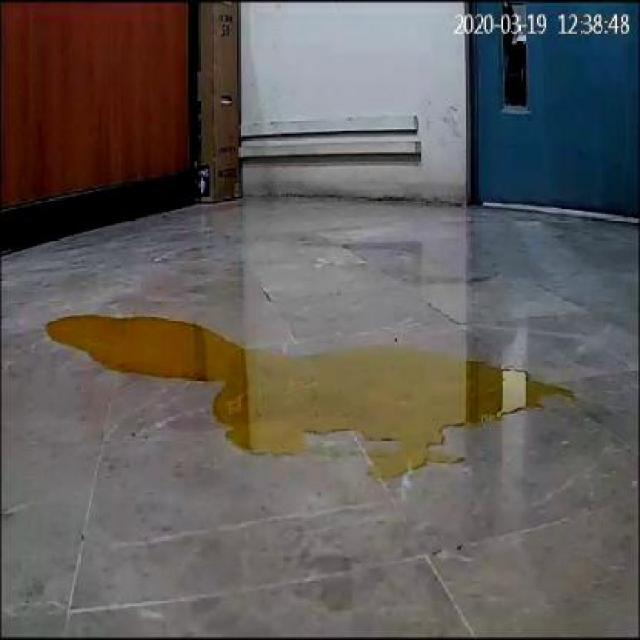spill: (46, 310, 572, 486)
